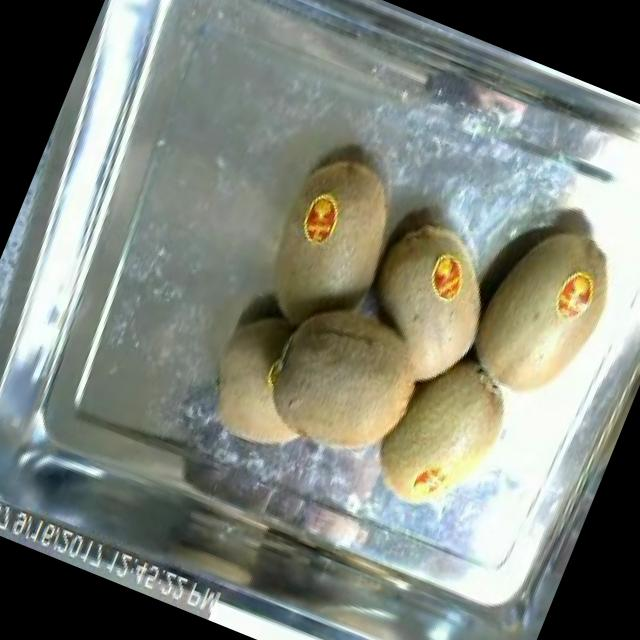Fruit: (242, 272, 457, 488), (443, 196, 639, 428), (352, 326, 534, 537), (287, 138, 427, 282)
